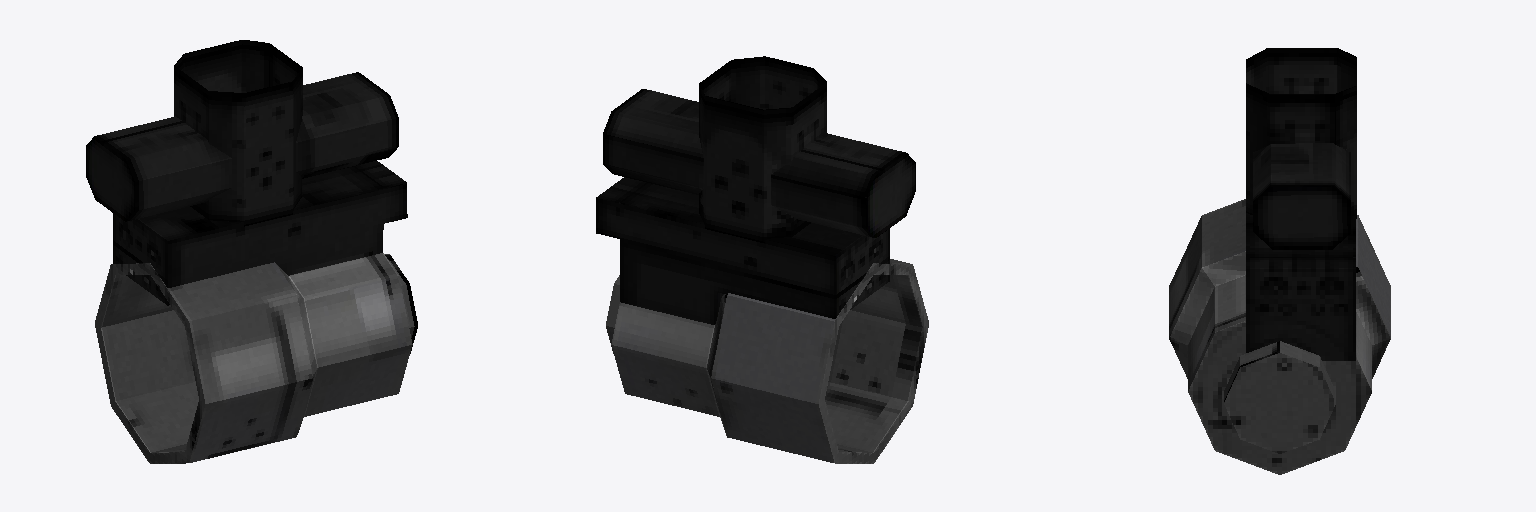
3 renders of one model, left to right at view 1: azimuth 30°, elevation 25°; view 2: azimuth 150°, elevation 25°; view 3: azimuth 270°, elevation 25°, orthographic.
Parts seen in each view (by area): view 1: drc_r_farm_drc_r_farmMesh; view 2: drc_r_farm_drc_r_farmMesh; view 3: drc_r_farm_drc_r_farmMesh.
Part boxes in pixels (bbox=[...]): drc_r_farm_drc_r_farmMesh: bbox=[86, 40, 417, 463]; drc_r_farm_drc_r_farmMesh: bbox=[596, 56, 928, 463]; drc_r_farm_drc_r_farmMesh: bbox=[1169, 48, 1390, 474].
Size of the model in its own units: 0.1299 by 0.1684 by 0.0927.
Materials: 1 (1 with a texture image).